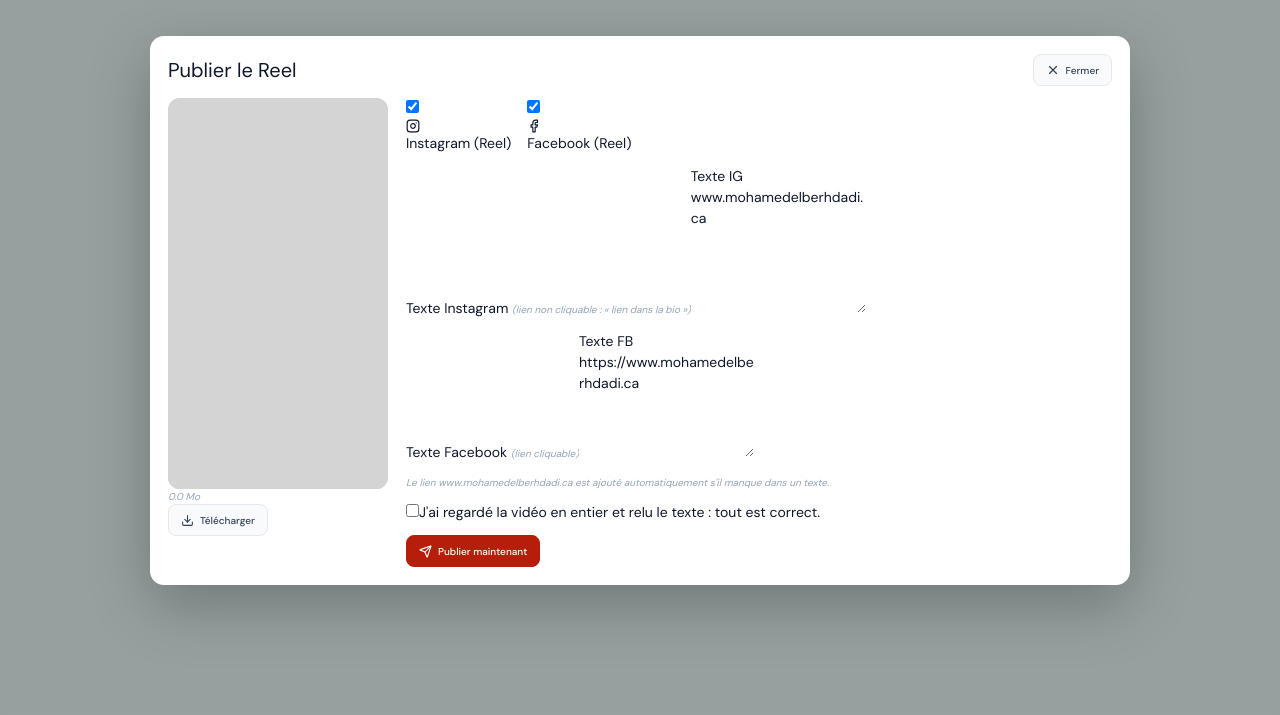
Test: PublierReel › prépare les textes, exige la vérification, publie sur Instagram et explique l'échec Facebook
Check: the text box showing "Texte IG" is shown, box [691,166,866,313]
Check: the button "Publier maintenant" is disabled, box [406,535,540,567]
Click the checkbox labelled "J'ai regardé la vidéo en entier": (412, 510) [406,504,419,517]
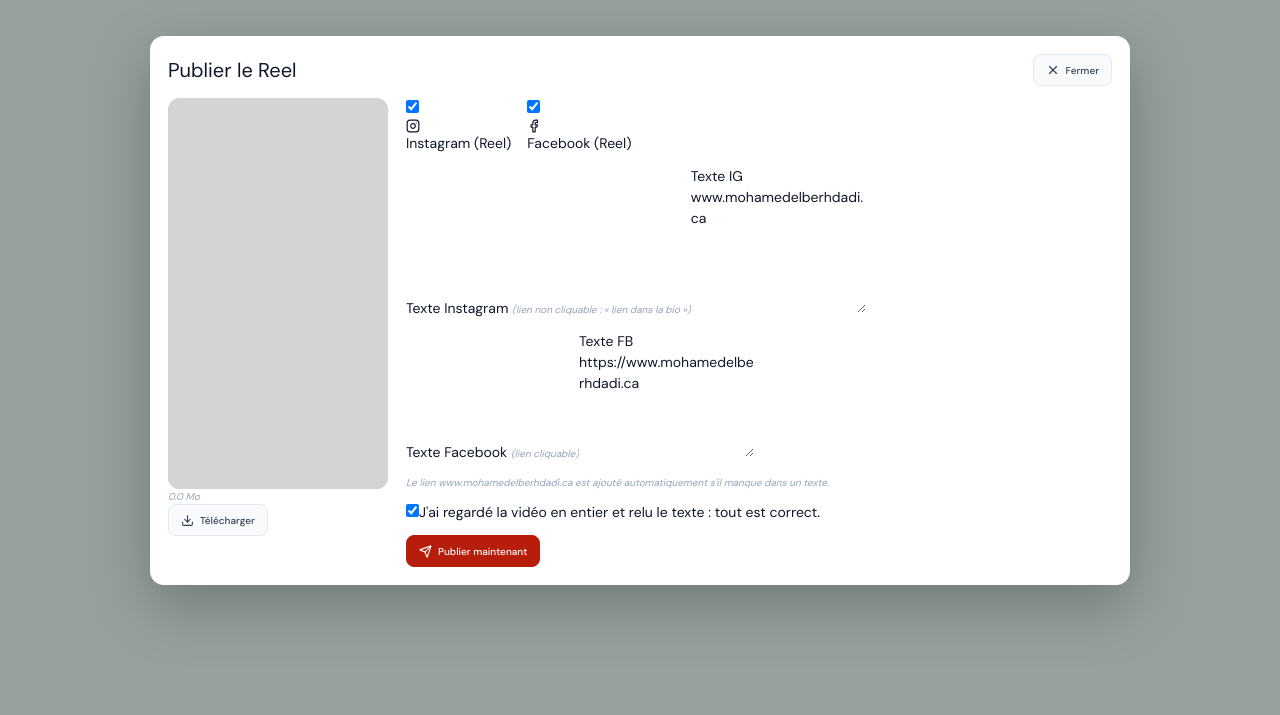
Click the button "Publier maintenant": (473, 551) [406,535,540,567]
Wait 6000 ms
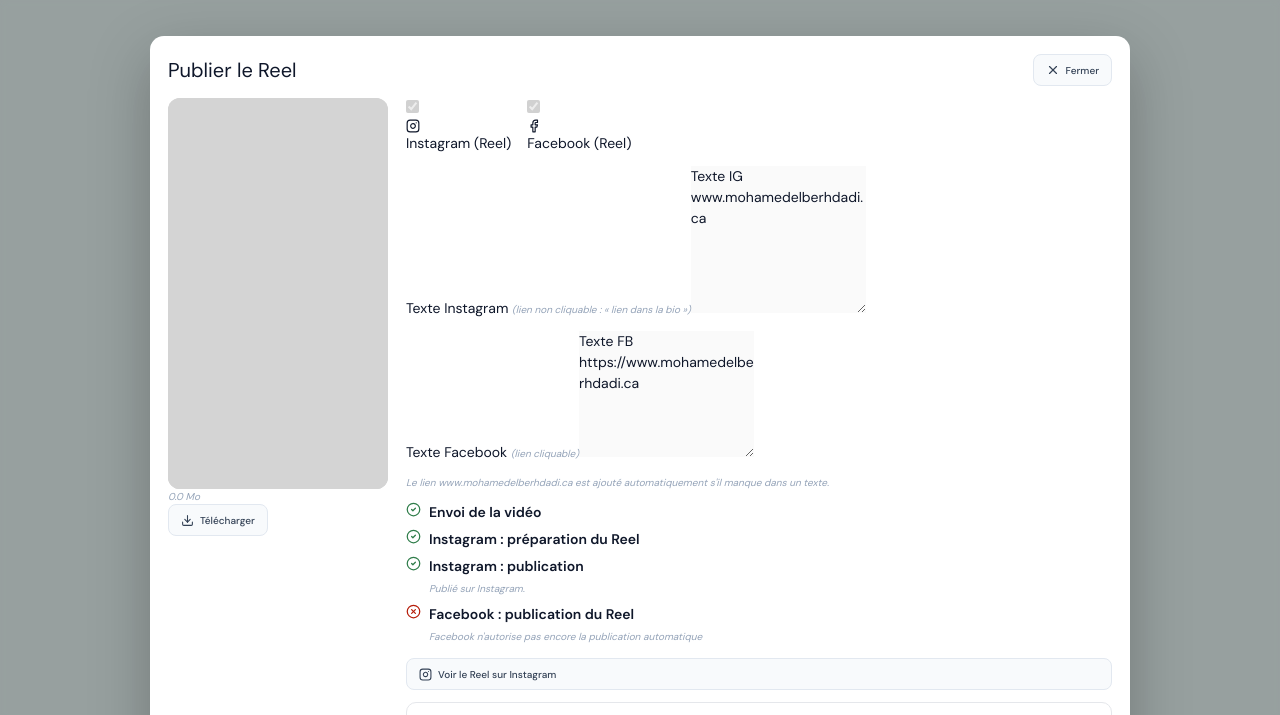
Check: the link "Voir le Reel sur Instagram" is shown, box [406,658,1112,690]
